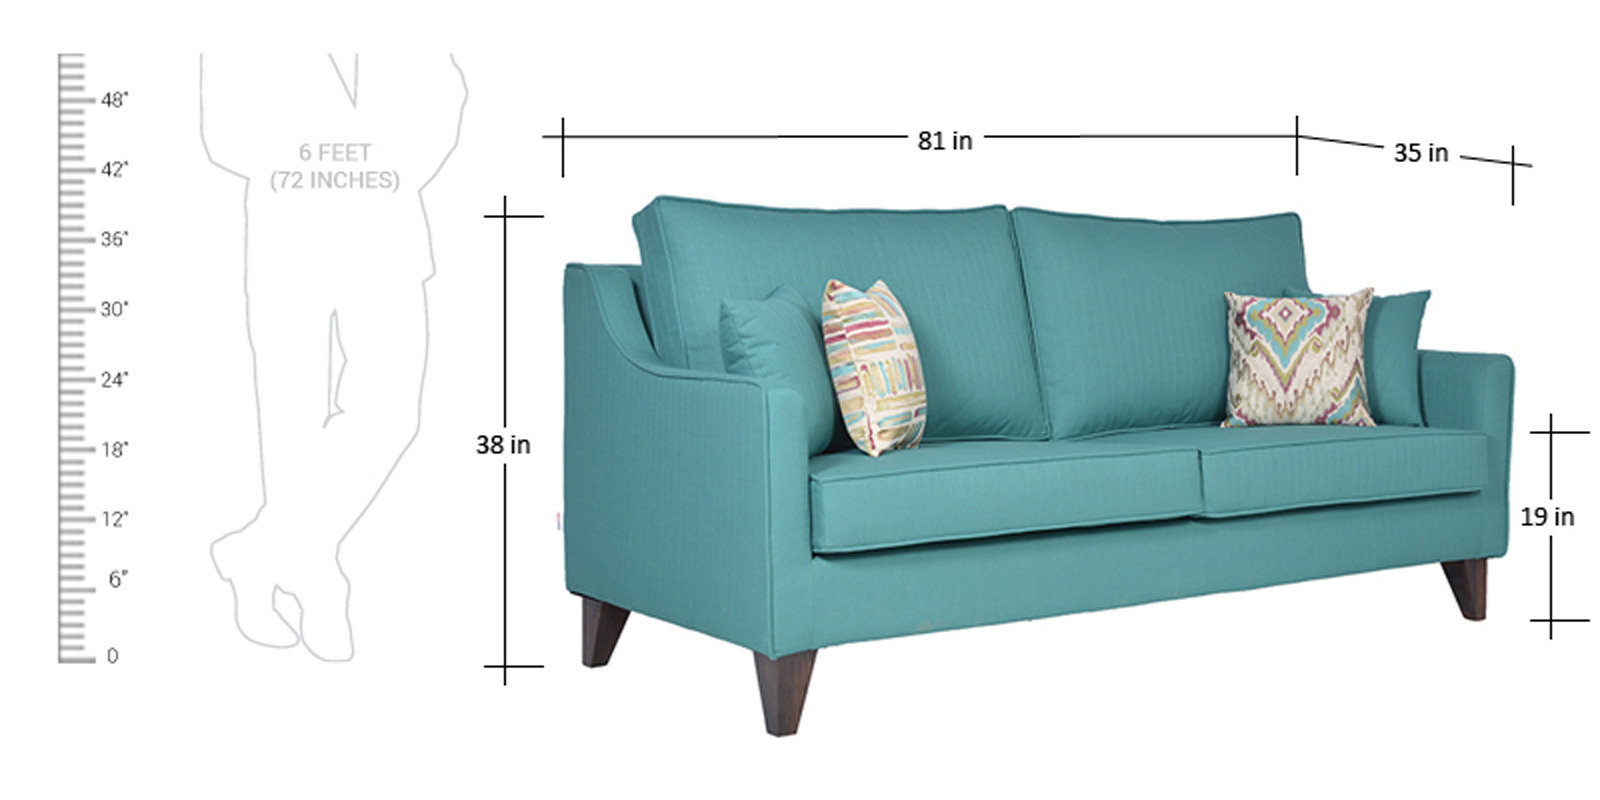Ithaca Impulse Three Seater Sofa with Throw Cushions in Jade Colour by Urban Liv: (539, 181, 1522, 745)
